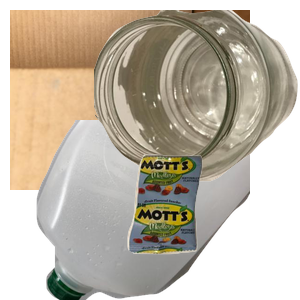cardboard: (10, 10, 250, 190)
glass: (94, 10, 300, 184)
plastic: (34, 120, 274, 300)
trash: (125, 152, 300, 300)
